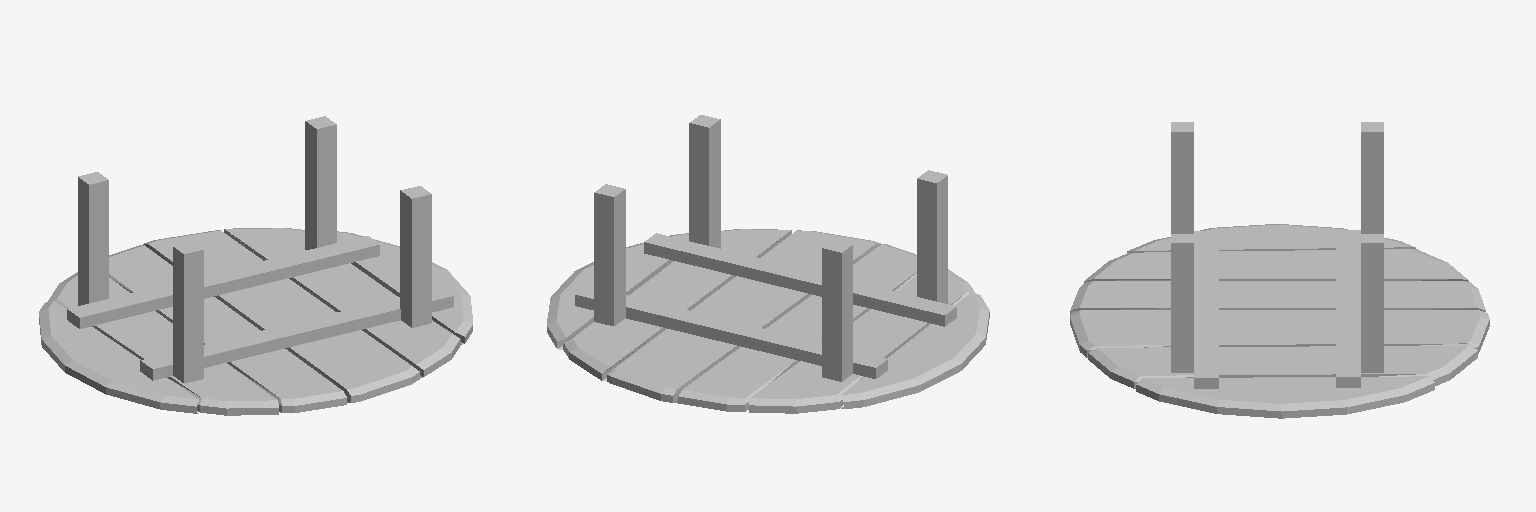
Rendered from tableFinal_5.obj.
3 views of the same model, side by side, from view 1: azimuth 30°, elevation 25°; view 2: azimuth 150°, elevation 25°; view 3: azimuth 270°, elevation 25° (orthographic).
Visible parts, largest first — view 1: Cylinder.005, Cube.004_Cube.005, Cube; view 2: Cylinder.005, Cube.004_Cube.005, Cube; view 3: Cylinder.005, Cube.004_Cube.005, Cube.
Part boxes in pixels (bbox=[...]): Cylinder.005: bbox=[39, 228, 472, 415]; Cube.004_Cube.005: bbox=[78, 116, 431, 383]; Cube: bbox=[67, 236, 453, 380]; Cylinder.005: bbox=[547, 229, 989, 413]; Cube.004_Cube.005: bbox=[594, 115, 947, 381]; Cube: bbox=[575, 233, 956, 378]; Cylinder.005: bbox=[1070, 224, 1489, 418]; Cube.004_Cube.005: bbox=[1171, 122, 1383, 372]; Cube: bbox=[1194, 230, 1360, 388].
Size of the model in its own units: 2.22 by 0.7929 by 2.09.